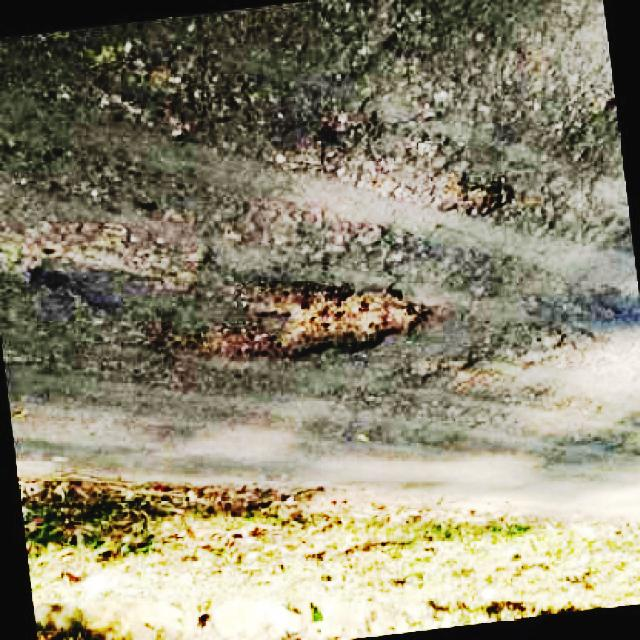pothole: (180, 282, 437, 366), (403, 171, 526, 223)
